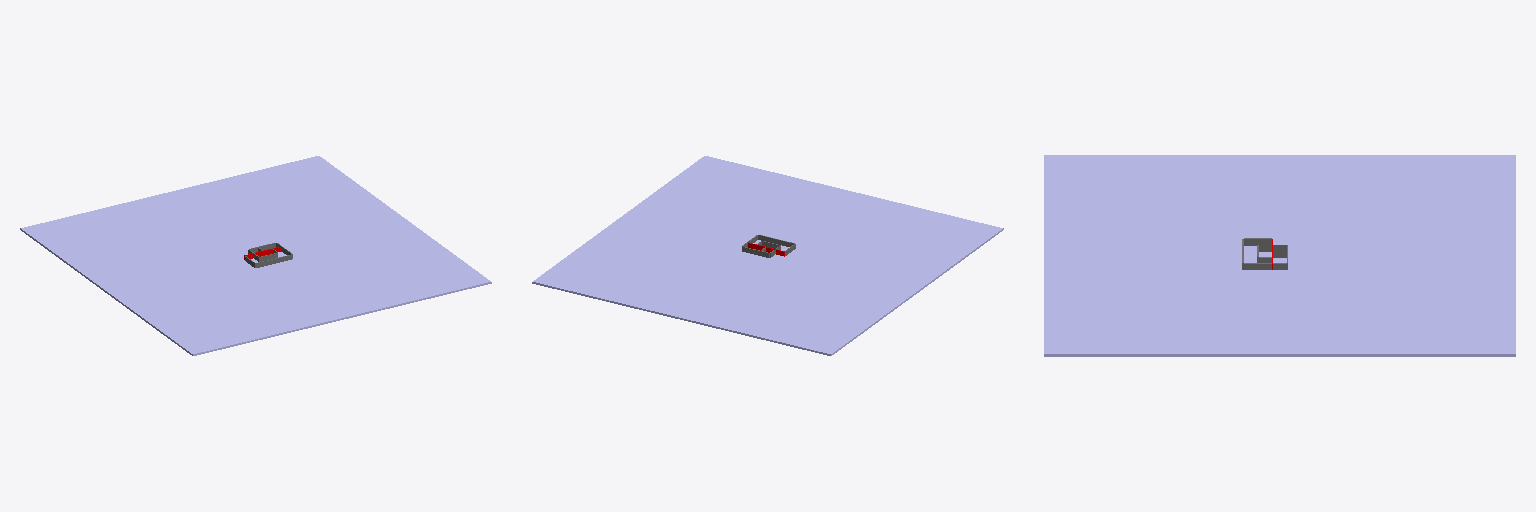
URDF robot description (move_n_times):
<?xml version="1.0"?>
<!-- created with Phobos 1.0.1 "Capricious Choutengan" -->
  <robot name="move_n_times">

    <link name="base_link">
      <inertial>
        <origin xyz="0 0 0" rpy="0 0 0"/>
        <mass value="0.001"/>
        <inertia ixx="0.001" ixy="0" ixz="0" iyy="0.001" iyz="0" izz="0.001"/>
      </inertial>
    </link>

    <link name="goal">
      <inertial>
        <origin xyz="0 0 0" rpy="0 0 0"/>
        <mass value="0.001"/>
        <inertia ixx="0.001" ixy="0" ixz="0" iyy="0.001" iyz="0" izz="0.001"/>
      </inertial>
    </link>

    <link name="link_0_joint_0">
      <inertial>
        <origin xyz="0 0 0" rpy="0 0 0"/>
        <mass value="0.001"/>
        <inertia ixx="0.001" ixy="0" ixz="0" iyy="0.001" iyz="0" izz="0.001"/>
      </inertial>
      <visual name="visual_mesh_3_link_0">
        <origin xyz="0 0 0" rpy="0 0 0"/>
        <geometry>
          <mesh filename="file://[local-path]/ba/puzzle-generator/puzzles/move_n_times/meshes/stl/robot.stl" scale="1.0 1.0 1.0"/>
        </geometry>
        <material name="green"/>
      </visual>
      <collision name="collision_mesh_3_link_0">
        <origin xyz="0 0 0" rpy="0 0 0"/>
        <geometry>
          <mesh filename="file://[local-path]/ba/puzzle-generator/puzzles/move_n_times/meshes/stl/robot.001.stl" scale="1.0 1.0 1.0"/>
        </geometry>
      </collision>
    </link>

    <link name="link_0_joint_0.001">
      <inertial>
        <origin xyz="0 0 0" rpy="0 0 0"/>
        <mass value="0.001"/>
        <inertia ixx="0.001" ixy="0" ixz="0" iyy="0.001" iyz="0" izz="0.001"/>
      </inertial>
      <visual name="visual_mesh_3_link_0.001">
        <origin xyz="0 0 0" rpy="0 0 0"/>
        <geometry>
          <mesh filename="file://[local-path]/ba/puzzle-generator/puzzles/move_n_times/meshes/stl/robot.002.stl" scale="0.995 0.995 0.995"/>
        </geometry>
        <material name="green_translucent"/>
      </visual>
    </link>

    <link name="link_0_joint_1">
      <inertial>
        <origin xyz="0 0 0" rpy="0 0 0"/>
        <mass value="0.001"/>
        <inertia ixx="0.001" ixy="0" ixz="0" iyy="0.001" iyz="0" izz="0.001"/>
      </inertial>
    </link>

    <link name="link_0_joint_1.001">
      <inertial>
        <origin xyz="0 0 0" rpy="0 0 0"/>
        <mass value="0.001"/>
        <inertia ixx="0.001" ixy="0" ixz="0" iyy="0.001" iyz="0" izz="0.001"/>
      </inertial>
    </link>

    <link name="link_0_joint_2">
      <inertial>
        <origin xyz="0 0 0" rpy="0 0 0"/>
        <mass value="0.001"/>
        <inertia ixx="0.001" ixy="0" ixz="0" iyy="0.001" iyz="0" izz="0.001"/>
      </inertial>
    </link>

    <link name="link_1_joint_0">
      <inertial>
        <origin xyz="0 0 0" rpy="0 0 0"/>
        <mass value="0.001"/>
        <inertia ixx="0.001" ixy="0" ixz="0" iyy="0.001" iyz="0" izz="0.001"/>
      </inertial>
      <visual name="visual_box_4_link_1">
        <origin xyz="0 0 0" rpy="0 0 0"/>
        <geometry>
          <box size="3.995 0.095 0.495"/>
        </geometry>
        <material name="red"/>
      </visual>
      <collision name="collision_box_4_link_1">
        <origin xyz="0 0 0" rpy="0 0 0"/>
        <geometry>
          <box size="3.995 0.095 0.495"/>
        </geometry>
      </collision>
    </link>

    <link name="link_fixed_0_floor">
      <inertial>
        <origin xyz="0 0 0" rpy="0 0 0"/>
        <mass value="0.001"/>
        <inertia ixx="0.001" ixy="0" ixz="0" iyy="0.001" iyz="0" izz="0.001"/>
      </inertial>
      <visual name="visual_box_fixed_0_floor">
        <origin xyz="0 0 0" rpy="0 0 0"/>
        <geometry>
          <box size="31.995 31.995 0.195"/>
        </geometry>
        <material name="lavender"/>
      </visual>
      <collision name="collision_box_fixed_0_floor">
        <origin xyz="0 0 0" rpy="0 0 0"/>
        <geometry>
          <box size="31.995 31.995 0.195"/>
        </geometry>
      </collision>
    </link>

    <link name="link_fixed_10_wall_southeast_1">
      <inertial>
        <origin xyz="0 0 0" rpy="0 0 0"/>
        <mass value="0.001"/>
        <inertia ixx="0.001" ixy="0" ixz="0" iyy="0.001" iyz="0" izz="0.001"/>
      </inertial>
      <visual name="visual_box_fixed_10_wall_southeast_1">
        <origin xyz="0 0 0" rpy="0 0 0"/>
        <geometry>
          <box size="0.095 0.895 0.495"/>
        </geometry>
        <material name="gray"/>
      </visual>
      <collision name="collision_box_fixed_10_wall_southeast_1">
        <origin xyz="0 0 0" rpy="0 0 0"/>
        <geometry>
          <box size="0.095 0.895 0.495"/>
        </geometry>
      </collision>
    </link>

    <link name="link_fixed_11_wall_south_2">
      <inertial>
        <origin xyz="0 0 0" rpy="0 0 0"/>
        <mass value="0.001"/>
        <inertia ixx="0.001" ixy="0" ixz="0" iyy="0.001" iyz="0" izz="0.001"/>
      </inertial>
      <visual name="visual_box_fixed_11_wall_south_2">
        <origin xyz="0 0 0" rpy="0 0 0"/>
        <geometry>
          <box size="3.895 0.095 0.495"/>
        </geometry>
        <material name="gray"/>
      </visual>
      <collision name="collision_box_fixed_11_wall_south_2">
        <origin xyz="0 0 0" rpy="0 0 0"/>
        <geometry>
          <box size="3.895 0.095 0.495"/>
        </geometry>
      </collision>
    </link>

    <link name="link_fixed_12_wall_southwest_2">
      <inertial>
        <origin xyz="0 0 0" rpy="0 0 0"/>
        <mass value="0.001"/>
        <inertia ixx="0.001" ixy="0" ixz="0" iyy="0.001" iyz="0" izz="0.001"/>
      </inertial>
      <visual name="visual_box_fixed_12_wall_southwest_2">
        <origin xyz="0 0 0" rpy="0 0 0"/>
        <geometry>
          <box size="0.095 1.895 0.495"/>
        </geometry>
        <material name="gray"/>
      </visual>
      <collision name="collision_box_fixed_12_wall_southwest_2">
        <origin xyz="0 0 0" rpy="0 0 0"/>
        <geometry>
          <box size="0.095 1.895 0.495"/>
        </geometry>
      </collision>
    </link>

    <link name="link_fixed_13_wall_southeast_2">
      <inertial>
        <origin xyz="0 0 0" rpy="0 0 0"/>
        <mass value="0.001"/>
        <inertia ixx="0.001" ixy="0" ixz="0" iyy="0.001" iyz="0" izz="0.001"/>
      </inertial>
      <visual name="visual_box_fixed_13_wall_southeast_2">
        <origin xyz="0 0 0" rpy="0 0 0"/>
        <geometry>
          <box size="0.095 1.895 0.495"/>
        </geometry>
        <material name="gray"/>
      </visual>
      <collision name="collision_box_fixed_13_wall_southeast_2">
        <origin xyz="0 0 0" rpy="0 0 0"/>
        <geometry>
          <box size="0.095 1.895 0.495"/>
        </geometry>
      </collision>
    </link>

    <link name="link_fixed_14_wall_north_2">
      <inertial>
        <origin xyz="0 0 0" rpy="0 0 0"/>
        <mass value="0.001"/>
        <inertia ixx="0.001" ixy="0" ixz="0" iyy="0.001" iyz="0" izz="0.001"/>
      </inertial>
      <visual name="visual_box_fixed_14_wall_north_2">
        <origin xyz="0 0 0" rpy="0 0 0"/>
        <geometry>
          <box size="1.895 0.095 0.495"/>
        </geometry>
        <material name="gray"/>
      </visual>
      <collision name="collision_box_fixed_14_wall_north_2">
        <origin xyz="0 0 0" rpy="0 0 0"/>
        <geometry>
          <box size="1.895 0.095 0.495"/>
        </geometry>
      </collision>
    </link>

    <link name="link_fixed_15_wall_north_side_2">
      <inertial>
        <origin xyz="0 0 0" rpy="0 0 0"/>
        <mass value="0.001"/>
        <inertia ixx="0.001" ixy="0" ixz="0" iyy="0.001" iyz="0" izz="0.001"/>
      </inertial>
      <visual name="visual_box_fixed_15_wall_north_side_2">
        <origin xyz="0 0 0" rpy="0 0 0"/>
        <geometry>
          <box size="0.095 0.895 0.495"/>
        </geometry>
        <material name="gray"/>
      </visual>
      <collision name="collision_box_fixed_15_wall_north_side_2">
        <origin xyz="0 0 0" rpy="0 0 0"/>
        <geometry>
          <box size="0.095 0.895 0.495"/>
        </geometry>
      </collision>
    </link>

    <link name="link_fixed_5_wall_north_0">
      <inertial>
        <origin xyz="0 0 0" rpy="0 0 0"/>
        <mass value="0.001"/>
        <inertia ixx="0.001" ixy="0" ixz="0" iyy="0.001" iyz="0" izz="0.001"/>
      </inertial>
      <visual name="visual_box_fixed_5_wall_north_0">
        <origin xyz="0 0 0" rpy="0 0 0"/>
        <geometry>
          <box size="0.895 0.095 0.495"/>
        </geometry>
        <material name="gray"/>
      </visual>
      <collision name="collision_box_fixed_5_wall_north_0">
        <origin xyz="0 0 0" rpy="0 0 0"/>
        <geometry>
          <box size="0.895 0.095 0.495"/>
        </geometry>
      </collision>
    </link>

    <link name="link_fixed_6_wall_northwest_0">
      <inertial>
        <origin xyz="0 0 0" rpy="0 0 0"/>
        <mass value="0.001"/>
        <inertia ixx="0.001" ixy="0" ixz="0" iyy="0.001" iyz="0" izz="0.001"/>
      </inertial>
      <visual name="visual_box_fixed_6_wall_northwest_0">
        <origin xyz="0 0 0" rpy="0 0 0"/>
        <geometry>
          <box size="0.095 0.895 0.495"/>
        </geometry>
        <material name="gray"/>
      </visual>
      <collision name="collision_box_fixed_6_wall_northwest_0">
        <origin xyz="0 0 0" rpy="0 0 0"/>
        <geometry>
          <box size="0.095 0.895 0.495"/>
        </geometry>
      </collision>
    </link>

    <link name="link_fixed_7_wall_northeast_0">
      <inertial>
        <origin xyz="0 0 0" rpy="0 0 0"/>
        <mass value="0.001"/>
        <inertia ixx="0.001" ixy="0" ixz="0" iyy="0.001" iyz="0" izz="0.001"/>
      </inertial>
      <visual name="visual_box_fixed_7_wall_northeast_0">
        <origin xyz="0 0 0" rpy="0 0 0"/>
        <geometry>
          <box size="0.095 0.895 0.495"/>
        </geometry>
        <material name="gray"/>
      </visual>
      <collision name="collision_box_fixed_7_wall_northeast_0">
        <origin xyz="0 0 0" rpy="0 0 0"/>
        <geometry>
          <box size="0.095 0.895 0.495"/>
        </geometry>
      </collision>
    </link>

    <link name="link_fixed_8_wall_south_1">
      <inertial>
        <origin xyz="0 0 0" rpy="0 0 0"/>
        <mass value="0.001"/>
        <inertia ixx="0.001" ixy="0" ixz="0" iyy="0.001" iyz="0" izz="0.001"/>
      </inertial>
      <visual name="visual_box_fixed_8_wall_south_1">
        <origin xyz="0 0 0" rpy="0 0 0"/>
        <geometry>
          <box size="1.895 0.095 0.495"/>
        </geometry>
        <material name="gray"/>
      </visual>
      <collision name="collision_box_fixed_8_wall_south_1">
        <origin xyz="0 0 0" rpy="0 0 0"/>
        <geometry>
          <box size="1.895 0.095 0.495"/>
        </geometry>
      </collision>
    </link>

    <link name="link_fixed_9_wall_southwest_1">
      <inertial>
        <origin xyz="0 0 0" rpy="0 0 0"/>
        <mass value="0.001"/>
        <inertia ixx="0.001" ixy="0" ixz="0" iyy="0.001" iyz="0" izz="0.001"/>
      </inertial>
      <visual name="visual_box_fixed_9_wall_southwest_1">
        <origin xyz="0 0 0" rpy="0 0 0"/>
        <geometry>
          <box size="0.095 0.895 0.495"/>
        </geometry>
        <material name="gray"/>
      </visual>
      <collision name="collision_box_fixed_9_wall_southwest_1">
        <origin xyz="0 0 0" rpy="0 0 0"/>
        <geometry>
          <box size="0.095 0.895 0.495"/>
        </geometry>
      </collision>
    </link>

    <joint name="goal" type="fixed">
      <origin xyz="2.06653 -3.0 0.25" rpy="0 0 1.62078"/>
      <parent link="base_link"/>
      <child link="goal"/>
      <limit effort="0" velocity="0"/>
    </joint>

    <joint name="link_0_joint_0" type="revolute">
      <origin xyz="0 0 0" rpy="0 0 0"/>
      <parent link="link_0_joint_1"/>
      <child link="link_0_joint_0"/>
      <axis xyz="0 0 1.0"/>
      <limit lower="-3.14159" upper="3.14159" effort="0" velocity="0"/>
    </joint>

    <joint name="link_0_joint_0.001" type="fixed">
      <origin xyz="0 0 0" rpy="0 0 0"/>
      <parent link="link_0_joint_1.001"/>
      <child link="link_0_joint_0.001"/>
      <limit effort="0" velocity="0"/>
    </joint>

    <joint name="link_0_joint_1" type="prismatic">
      <origin xyz="0 0 0" rpy="0 0 0"/>
      <parent link="link_0_joint_2"/>
      <child link="link_0_joint_1"/>
      <axis xyz="0 1.0 0"/>
      <limit lower="-3.0" upper="0.5" effort="0" velocity="0"/>
    </joint>

    <joint name="link_0_joint_1.001" type="fixed">
      <origin xyz="0 0 0" rpy="0 0 0"/>
      <parent link="goal"/>
      <child link="link_0_joint_1.001"/>
      <limit effort="0" velocity="0"/>
    </joint>

    <joint name="link_0_joint_2" type="prismatic">
      <origin xyz="0 0 0.25" rpy="0 0 0"/>
      <parent link="base_link"/>
      <child link="link_0_joint_2"/>
      <axis xyz="1.0 0 0"/>
      <limit lower="-3.0" upper="3.0" effort="0" velocity="0"/>
    </joint>

    <joint name="link_1_joint_0" type="prismatic">
      <origin xyz="0.5 -0.5 0.25" rpy="0 0 0"/>
      <parent link="base_link"/>
      <child link="link_1_joint_0"/>
      <axis xyz="1.0 0 0"/>
      <limit lower="-2.0" upper="2.0" effort="0" velocity="0"/>
    </joint>

    <joint name="link_fixed_0_floor" type="fixed">
      <origin xyz="0 0 -0.1" rpy="0 0 0"/>
      <parent link="base_link"/>
      <child link="link_fixed_0_floor"/>
    </joint>

    <joint name="link_fixed_10_wall_southeast_1" type="fixed">
      <origin xyz="1.5 -1.0 0.25" rpy="0 0 0"/>
      <parent link="base_link"/>
      <child link="link_fixed_10_wall_southeast_1"/>
    </joint>

    <joint name="link_fixed_11_wall_south_2" type="fixed">
      <origin xyz="0.5 -2.5 0.25" rpy="0 0 0"/>
      <parent link="base_link"/>
      <child link="link_fixed_11_wall_south_2"/>
    </joint>

    <joint name="link_fixed_12_wall_southwest_2" type="fixed">
      <origin xyz="-1.5 -1.5 0.25" rpy="0 0 0"/>
      <parent link="base_link"/>
      <child link="link_fixed_12_wall_southwest_2"/>
    </joint>

    <joint name="link_fixed_13_wall_southeast_2" type="fixed">
      <origin xyz="2.5 -1.5 0.25" rpy="0 0 0"/>
      <parent link="base_link"/>
      <child link="link_fixed_13_wall_southeast_2"/>
    </joint>

    <joint name="link_fixed_14_wall_north_2" type="fixed">
      <origin xyz="1.5 0.5 0.25" rpy="0 0 0"/>
      <parent link="base_link"/>
      <child link="link_fixed_14_wall_north_2"/>
    </joint>

    <joint name="link_fixed_15_wall_north_side_2" type="fixed">
      <origin xyz="2.5 0 0.25" rpy="0 0 0"/>
      <parent link="base_link"/>
      <child link="link_fixed_15_wall_north_side_2"/>
    </joint>

    <joint name="link_fixed_5_wall_north_0" type="fixed">
      <origin xyz="0 0.5 0.25" rpy="0 0 0"/>
      <parent link="base_link"/>
      <child link="link_fixed_5_wall_north_0"/>
    </joint>

    <joint name="link_fixed_6_wall_northwest_0" type="fixed">
      <origin xyz="-0.5 0 0.25" rpy="0 0 0"/>
      <parent link="base_link"/>
      <child link="link_fixed_6_wall_northwest_0"/>
    </joint>

    <joint name="link_fixed_7_wall_northeast_0" type="fixed">
      <origin xyz="0.5 0 0.25" rpy="0 0 0"/>
      <parent link="base_link"/>
      <child link="link_fixed_7_wall_northeast_0"/>
    </joint>

    <joint name="link_fixed_8_wall_south_1" type="fixed">
      <origin xyz="0.5 -1.5 0.25" rpy="0 0 0"/>
      <parent link="base_link"/>
      <child link="link_fixed_8_wall_south_1"/>
    </joint>

    <joint name="link_fixed_9_wall_southwest_1" type="fixed">
      <origin xyz="-0.5 -1.0 0.25" rpy="0 0 0"/>
      <parent link="base_link"/>
      <child link="link_fixed_9_wall_southwest_1"/>
    </joint>

    <material name="gray">
      <color rgba="0.5 0.5 0.5 1.0"/>
    </material>

    <material name="green">
      <color rgba="0 1.0 0 1.0"/>
    </material>

    <material name="green_translucent">
      <color rgba="0 1.0 0 0.25"/>
    </material>

    <material name="lavender">
      <color rgba="0.8 0.8 1.0 1.0"/>
    </material>

    <material name="red">
      <color rgba="1.0 0 0 1.0"/>
    </material>

  </robot>

--- What the picture shows (computed from the rendered views, not written in the file) ---
3 views of the same robot in one strip: view 1: azimuth 30°, elevation 25°; view 2: azimuth 150°, elevation 25°; view 3: azimuth 270°, elevation 25° (orthographic).
Model move_n_times with 20 links and 19 joints (1 revolute, 3 prismatic, 15 fixed), rooted at base_link, posed all joints at 0.
Links seen in each view (by area): view 1: link_fixed_0_floor; view 2: link_fixed_0_floor; view 3: link_fixed_0_floor.
Link boxes in pixels (x1,y1,x2,y2): link_fixed_0_floor: (20, 156, 491, 355); link_fixed_0_floor: (532, 156, 1003, 355); link_fixed_0_floor: (1044, 155, 1515, 356).
Bounding box of the posed robot: 32 × 32 × 0.695 m (x, y, z).
Geometry: only primitive shapes (box / cylinder / sphere) drawn; not drawn: 2 mesh visuals (reference in a form the renderer does not follow).
